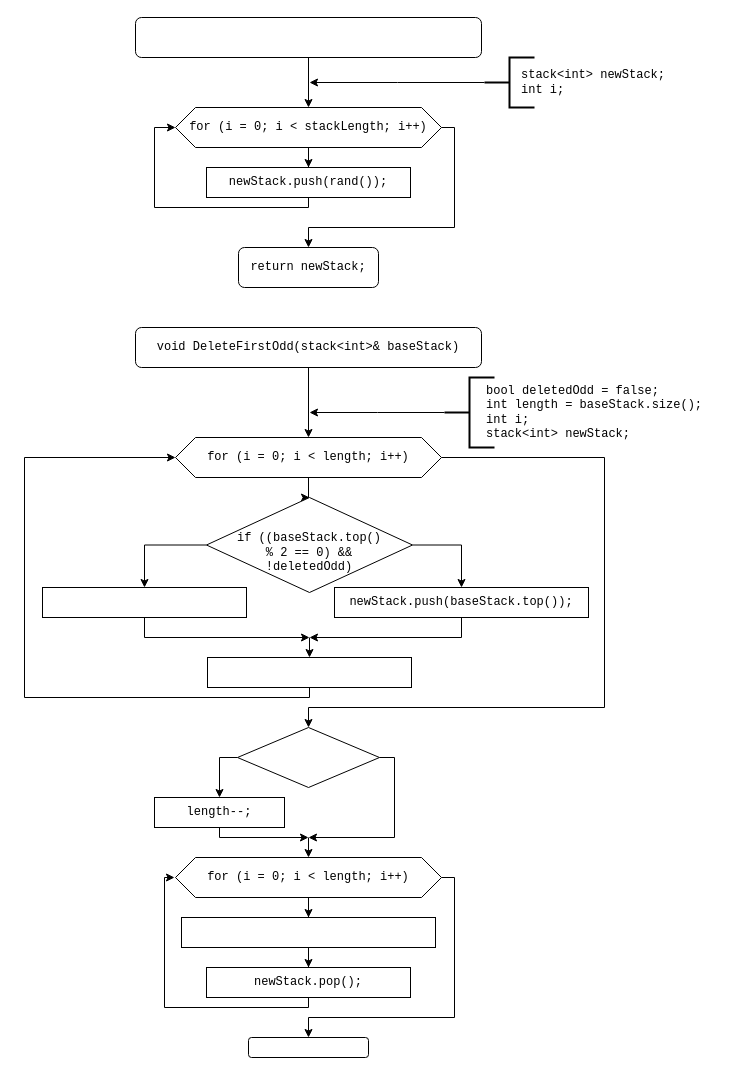
Some shapes in this 732 by 1075 pixel diagram are drawn without their labels. Here are the shapes that lost their labels. From the top down, the box of each, then its label:
(134, 16, 482, 58): stack<int> NewRandomStack(int stackLength)
(42, 586, 246, 618): deletedOdd = true;
(206, 656, 412, 688): baseStack.pop();
(236, 726, 380, 788): if (deletedOdd)
(180, 916, 436, 948): baseStack.push(newStack.top());
